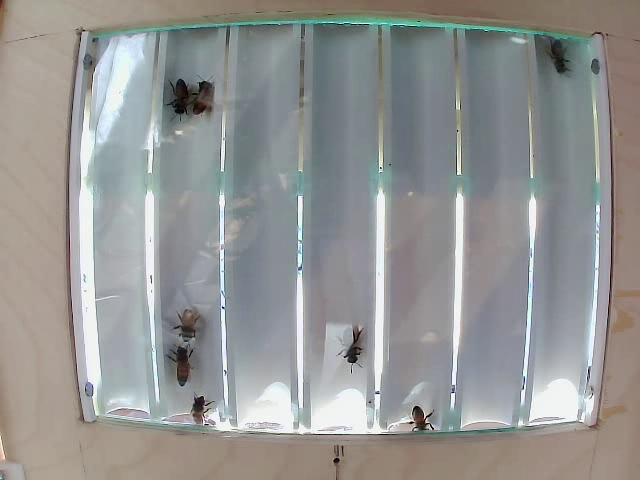bee: (172, 303, 212, 340), (200, 81, 227, 129), (335, 324, 369, 361), (168, 81, 198, 122), (166, 342, 191, 374), (551, 45, 570, 87)
